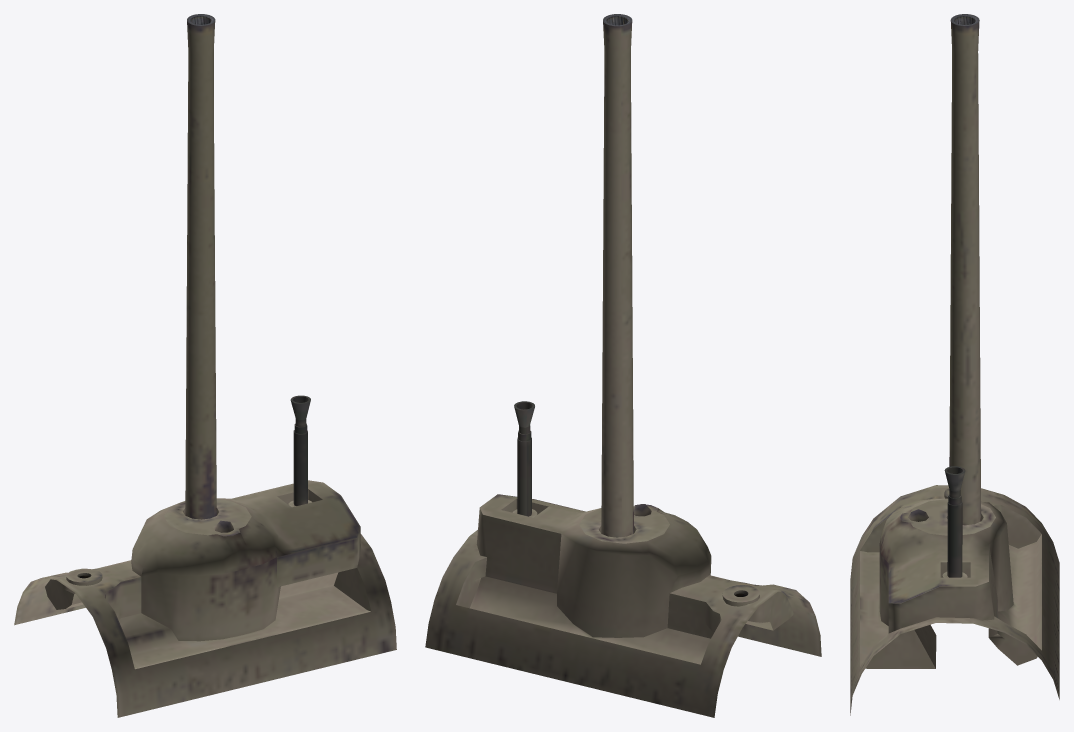
Rendered from Gun_01.glb.
3 renders of one model, left to right at view 1: azimuth 30°, elevation 25°; view 2: azimuth 150°, elevation 25°; view 3: azimuth 270°, elevation 25°, orthographic. The views are drawn at different scales.
Visible parts, largest first — view 1: set_0_group_0; view 2: set_0_group_0; view 3: set_0_group_0.
Part boxes in pixels (x1,y1,x2,y2): set_0_group_0: (14, 14, 396, 717); set_0_group_0: (425, 14, 821, 717); set_0_group_0: (850, 14, 1059, 715).
Bounding box in the file's own units: 0.7837 × 1.67 × 0.5032.
1 material, 1 textured.
